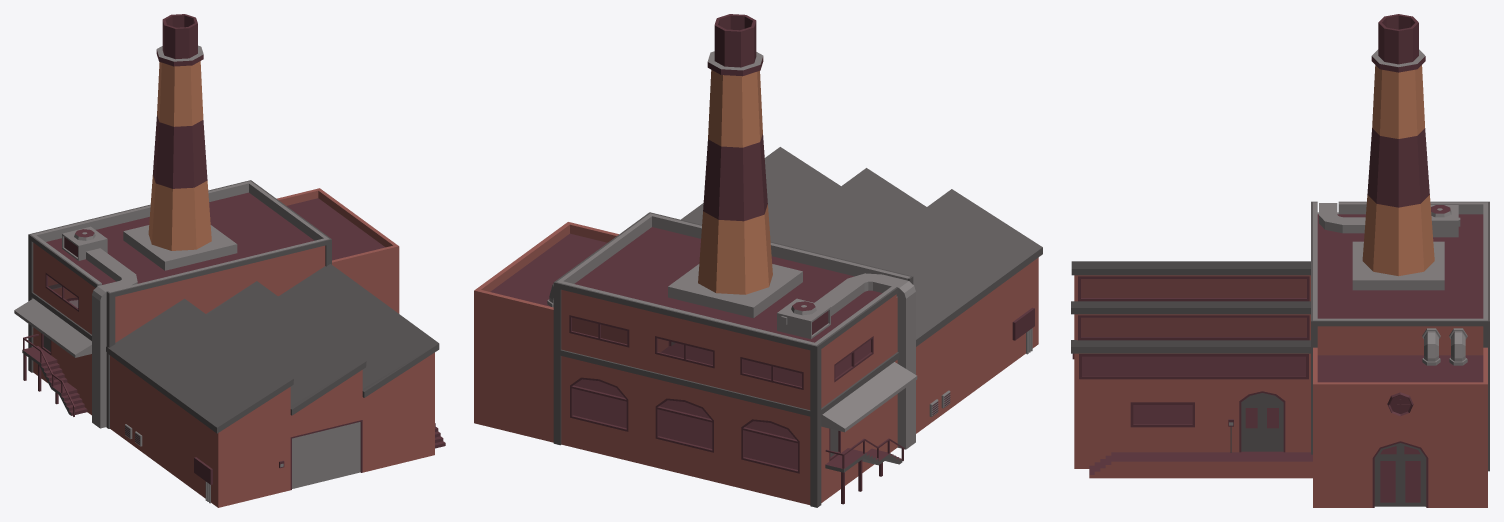
Rendered from industry-factory-old.fbx.
3 renders of one model, left to right at view 1: azimuth 30°, elevation 25°; view 2: azimuth 150°, elevation 25°; view 3: azimuth 270°, elevation 25°, orthographic. The views are drawn at different scales.
Parts seen in each view (by area): view 1: industry-factory-old; view 2: industry-factory-old; view 3: industry-factory-old.
Boxes of the visible parts, x1=… form: industry-factory-old: x1=14, y1=14, x2=445, y2=507; industry-factory-old: x1=474, y1=14, x2=1042, y2=507; industry-factory-old: x1=1071, y1=14, x2=1489, y2=507.
Size of the model in its own units: 21.55 by 23.3 by 22.75.
